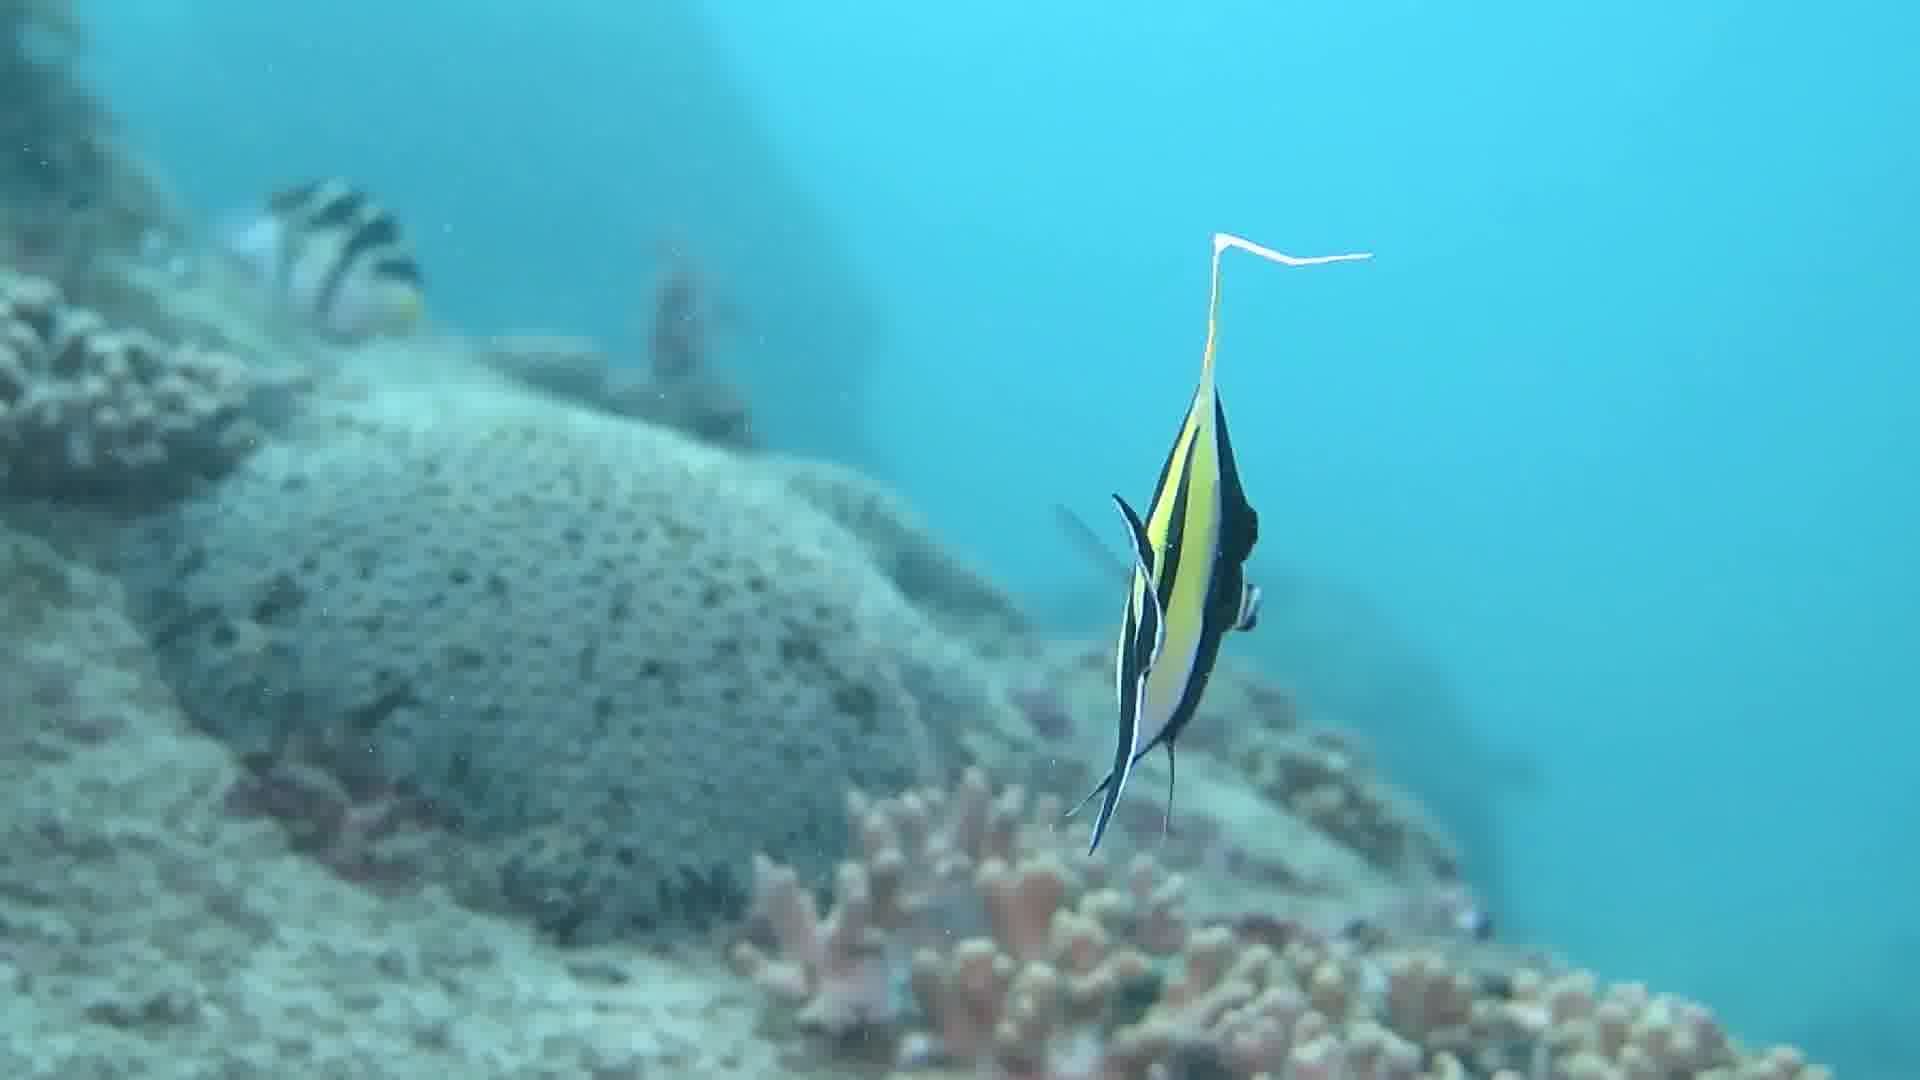Zanclus cornutus: (978, 121, 1342, 864)
